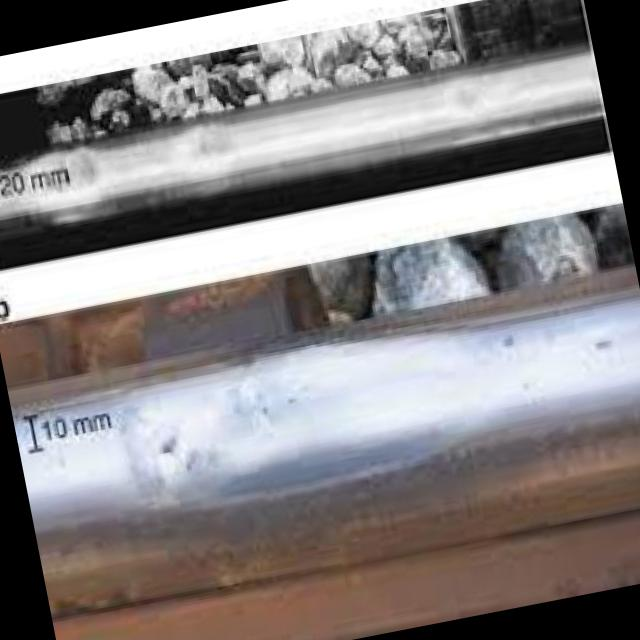defective: (70, 288, 522, 586), (0, 47, 606, 234)
